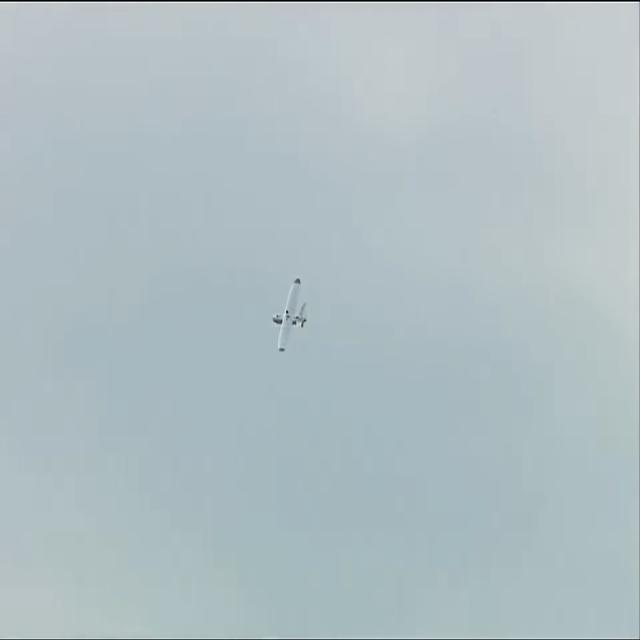iha: (270, 310, 307, 316)
